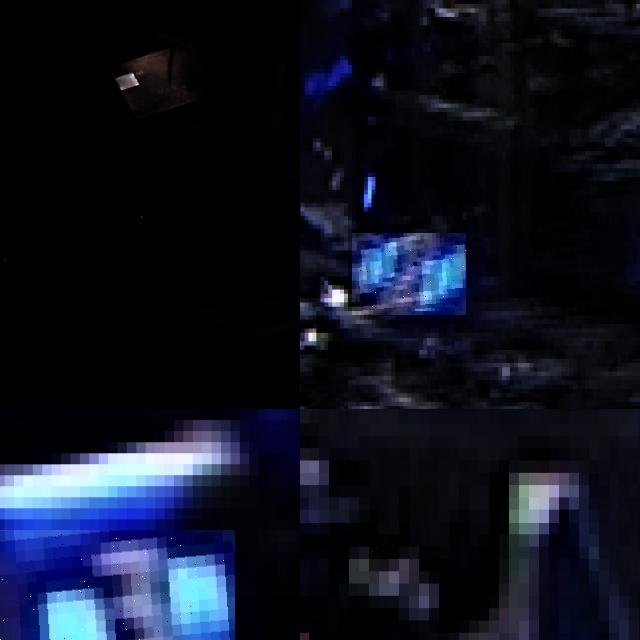B2: (352, 234, 466, 316)
B3: (0, 530, 235, 640)
